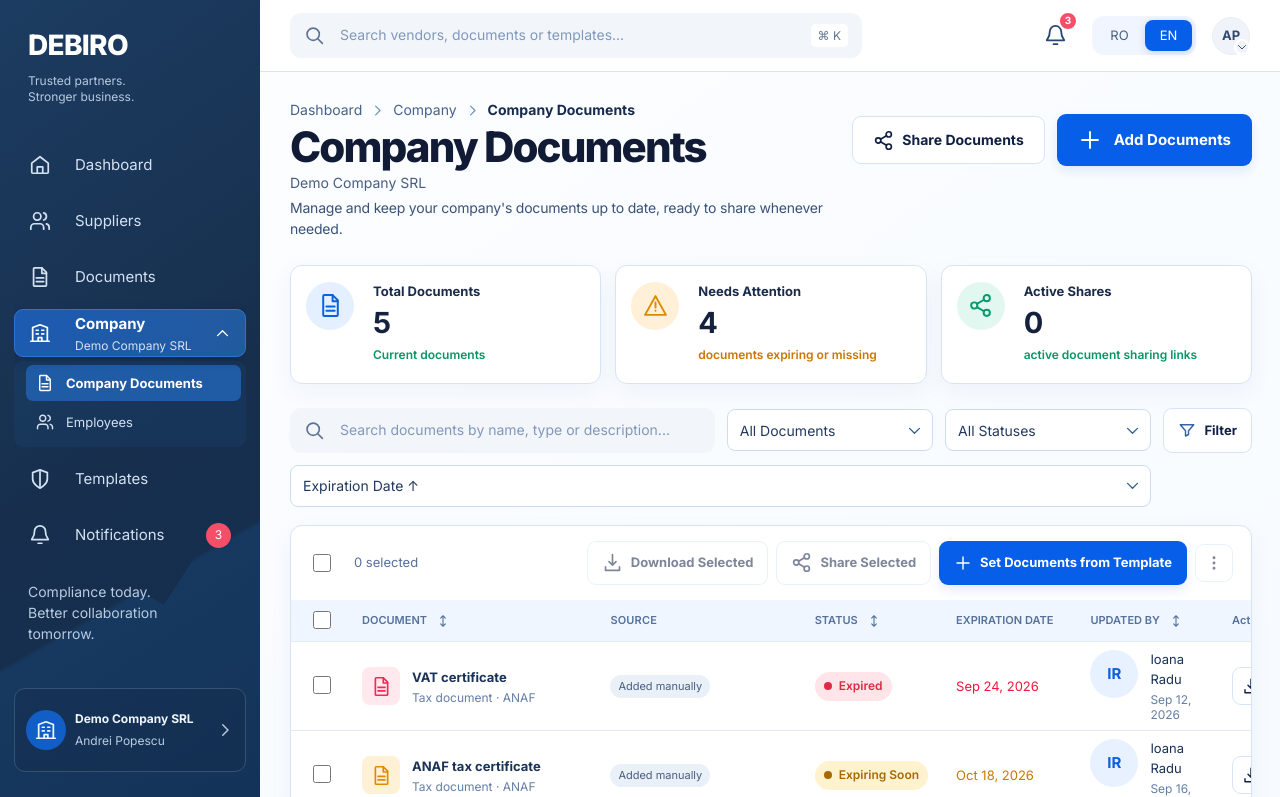
Test case: Company Documents shared listing UI › shows an honest empty template state without an upload form
The width and height of the screenshot is (1280, 797).
Click the button "Set Documents from Template" at (1063, 563), box [939, 541, 1187, 585]
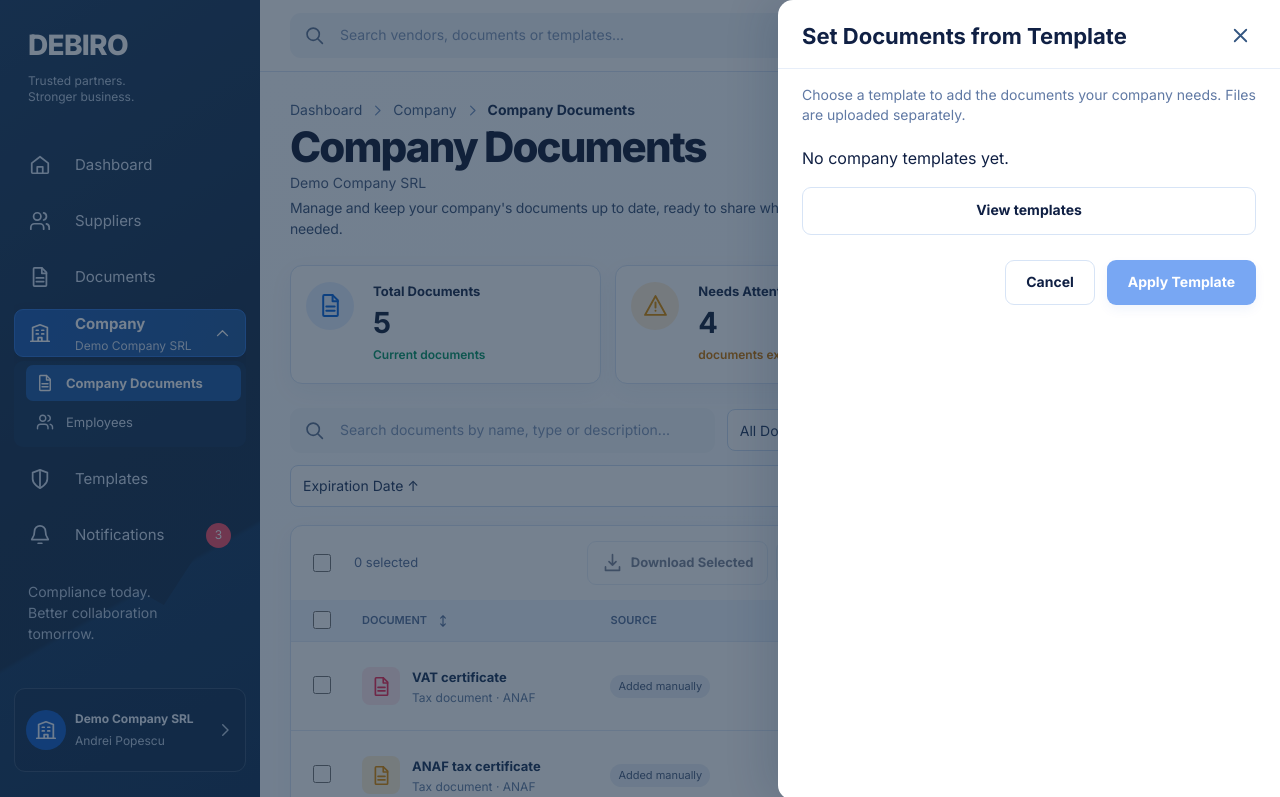
Expected: the text "No company templates yet." is shown, [802, 148, 1009, 168]
Expected: the button "Apply Template" is disabled, [1107, 260, 1256, 305]
